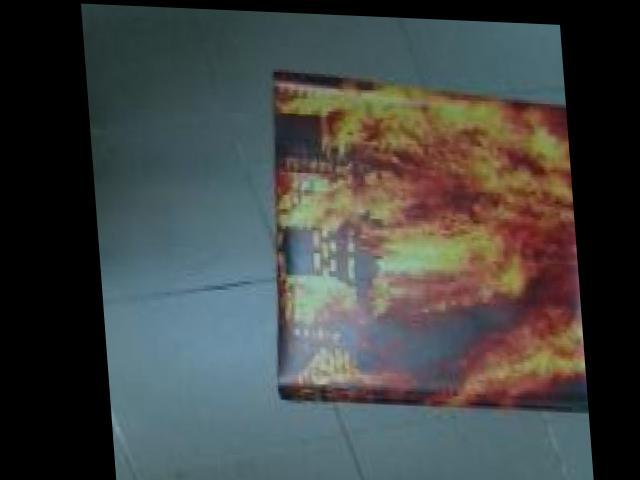fire-poster: (253, 63, 582, 414)
